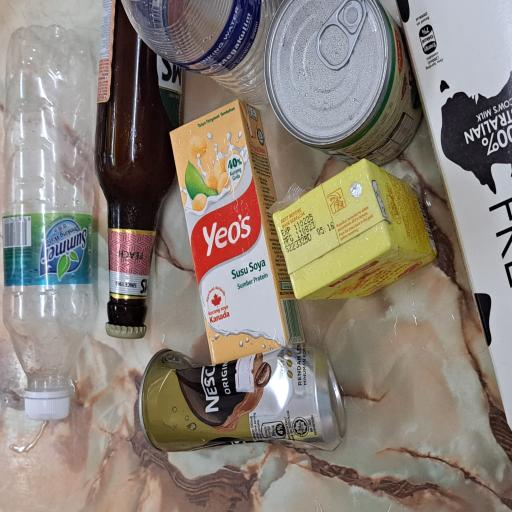can: (44, 183, 122, 463), (260, 350, 383, 512)
drink carton: (103, 226, 310, 406), (155, 363, 264, 512)
glass bottle: (130, 124, 384, 246)
plastic bottle: (96, 0, 365, 132), (307, 162, 384, 376)
plastic bottle cap: (69, 32, 92, 94)
pop tab: (331, 420, 384, 491)
